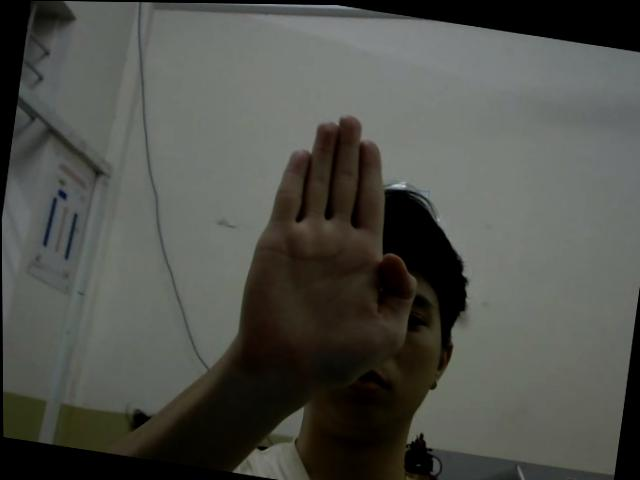B: (226, 99, 437, 396)
